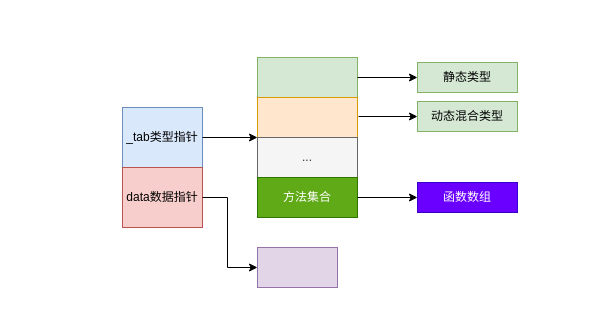
Some shapes in this 595 by 335 pixel diagram are drawn without their labels. Here are the shapes that lost their labels. From the top down, the centre of each, then its label:
point (307, 77): 静态类型指针
point (307, 117): 动态混合类型指针
point (297, 267): data数据
